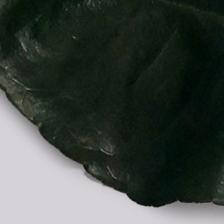healthy: (5, 3, 224, 222)
